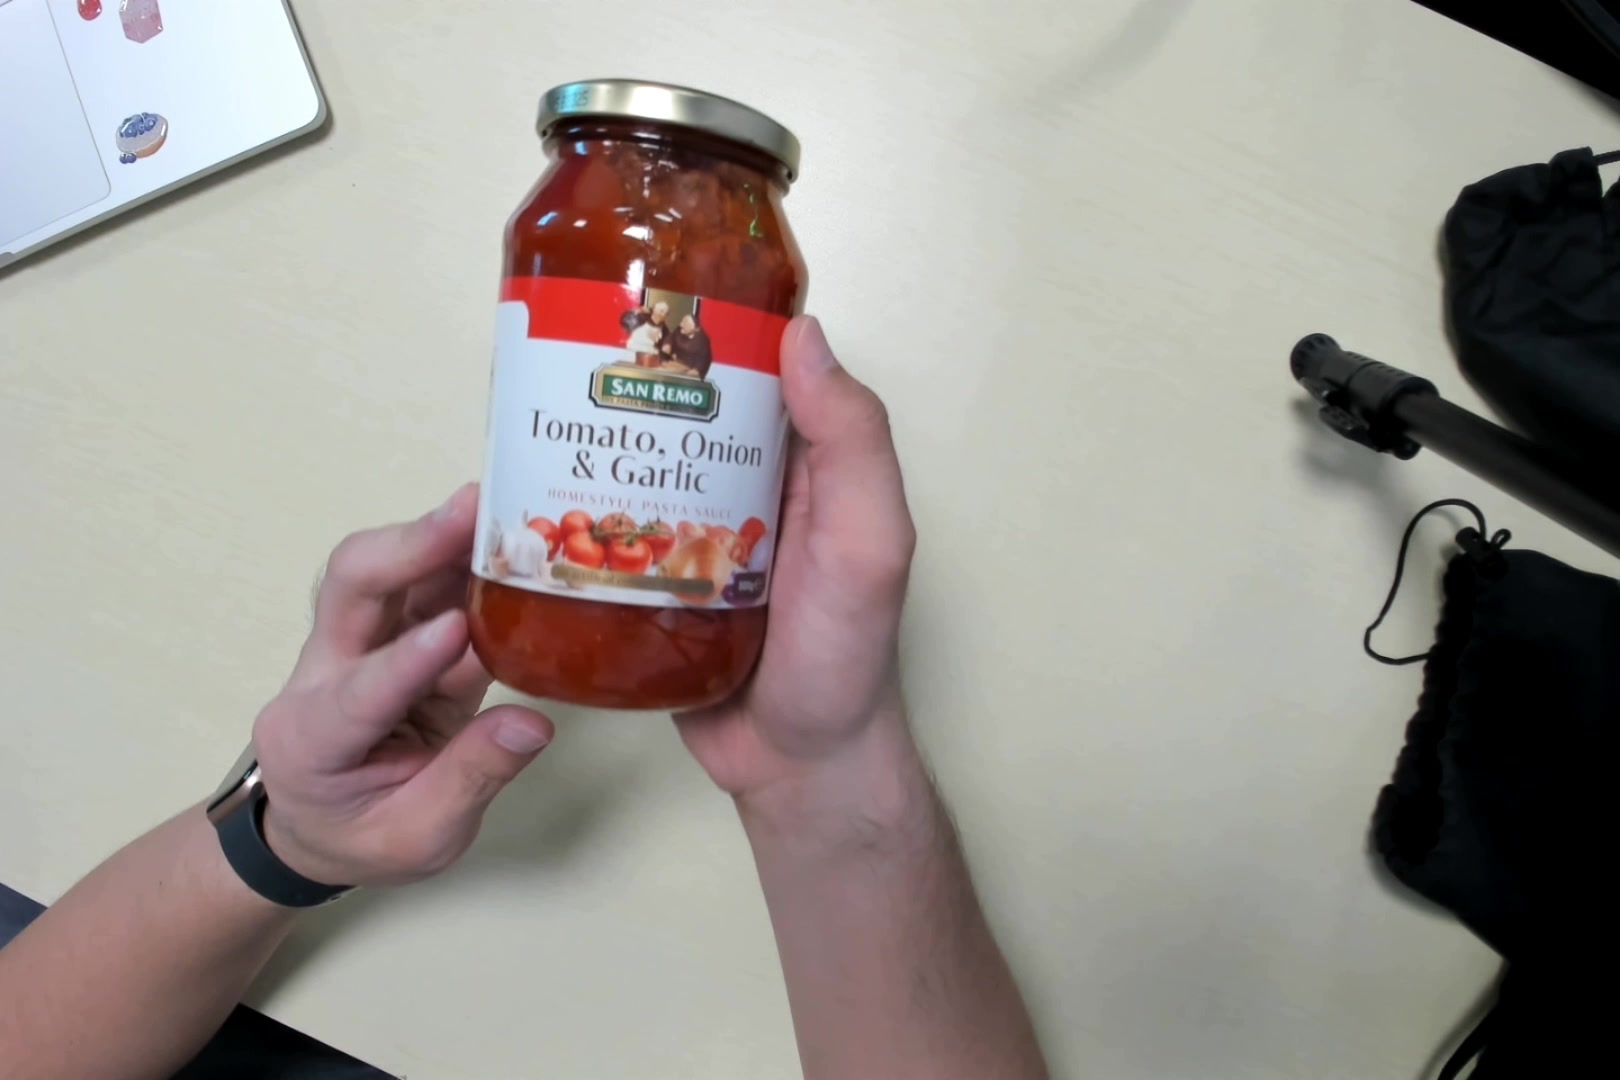PastaSauce_500-599g_NonHalal_NonHealthy: (469, 72, 817, 708)
